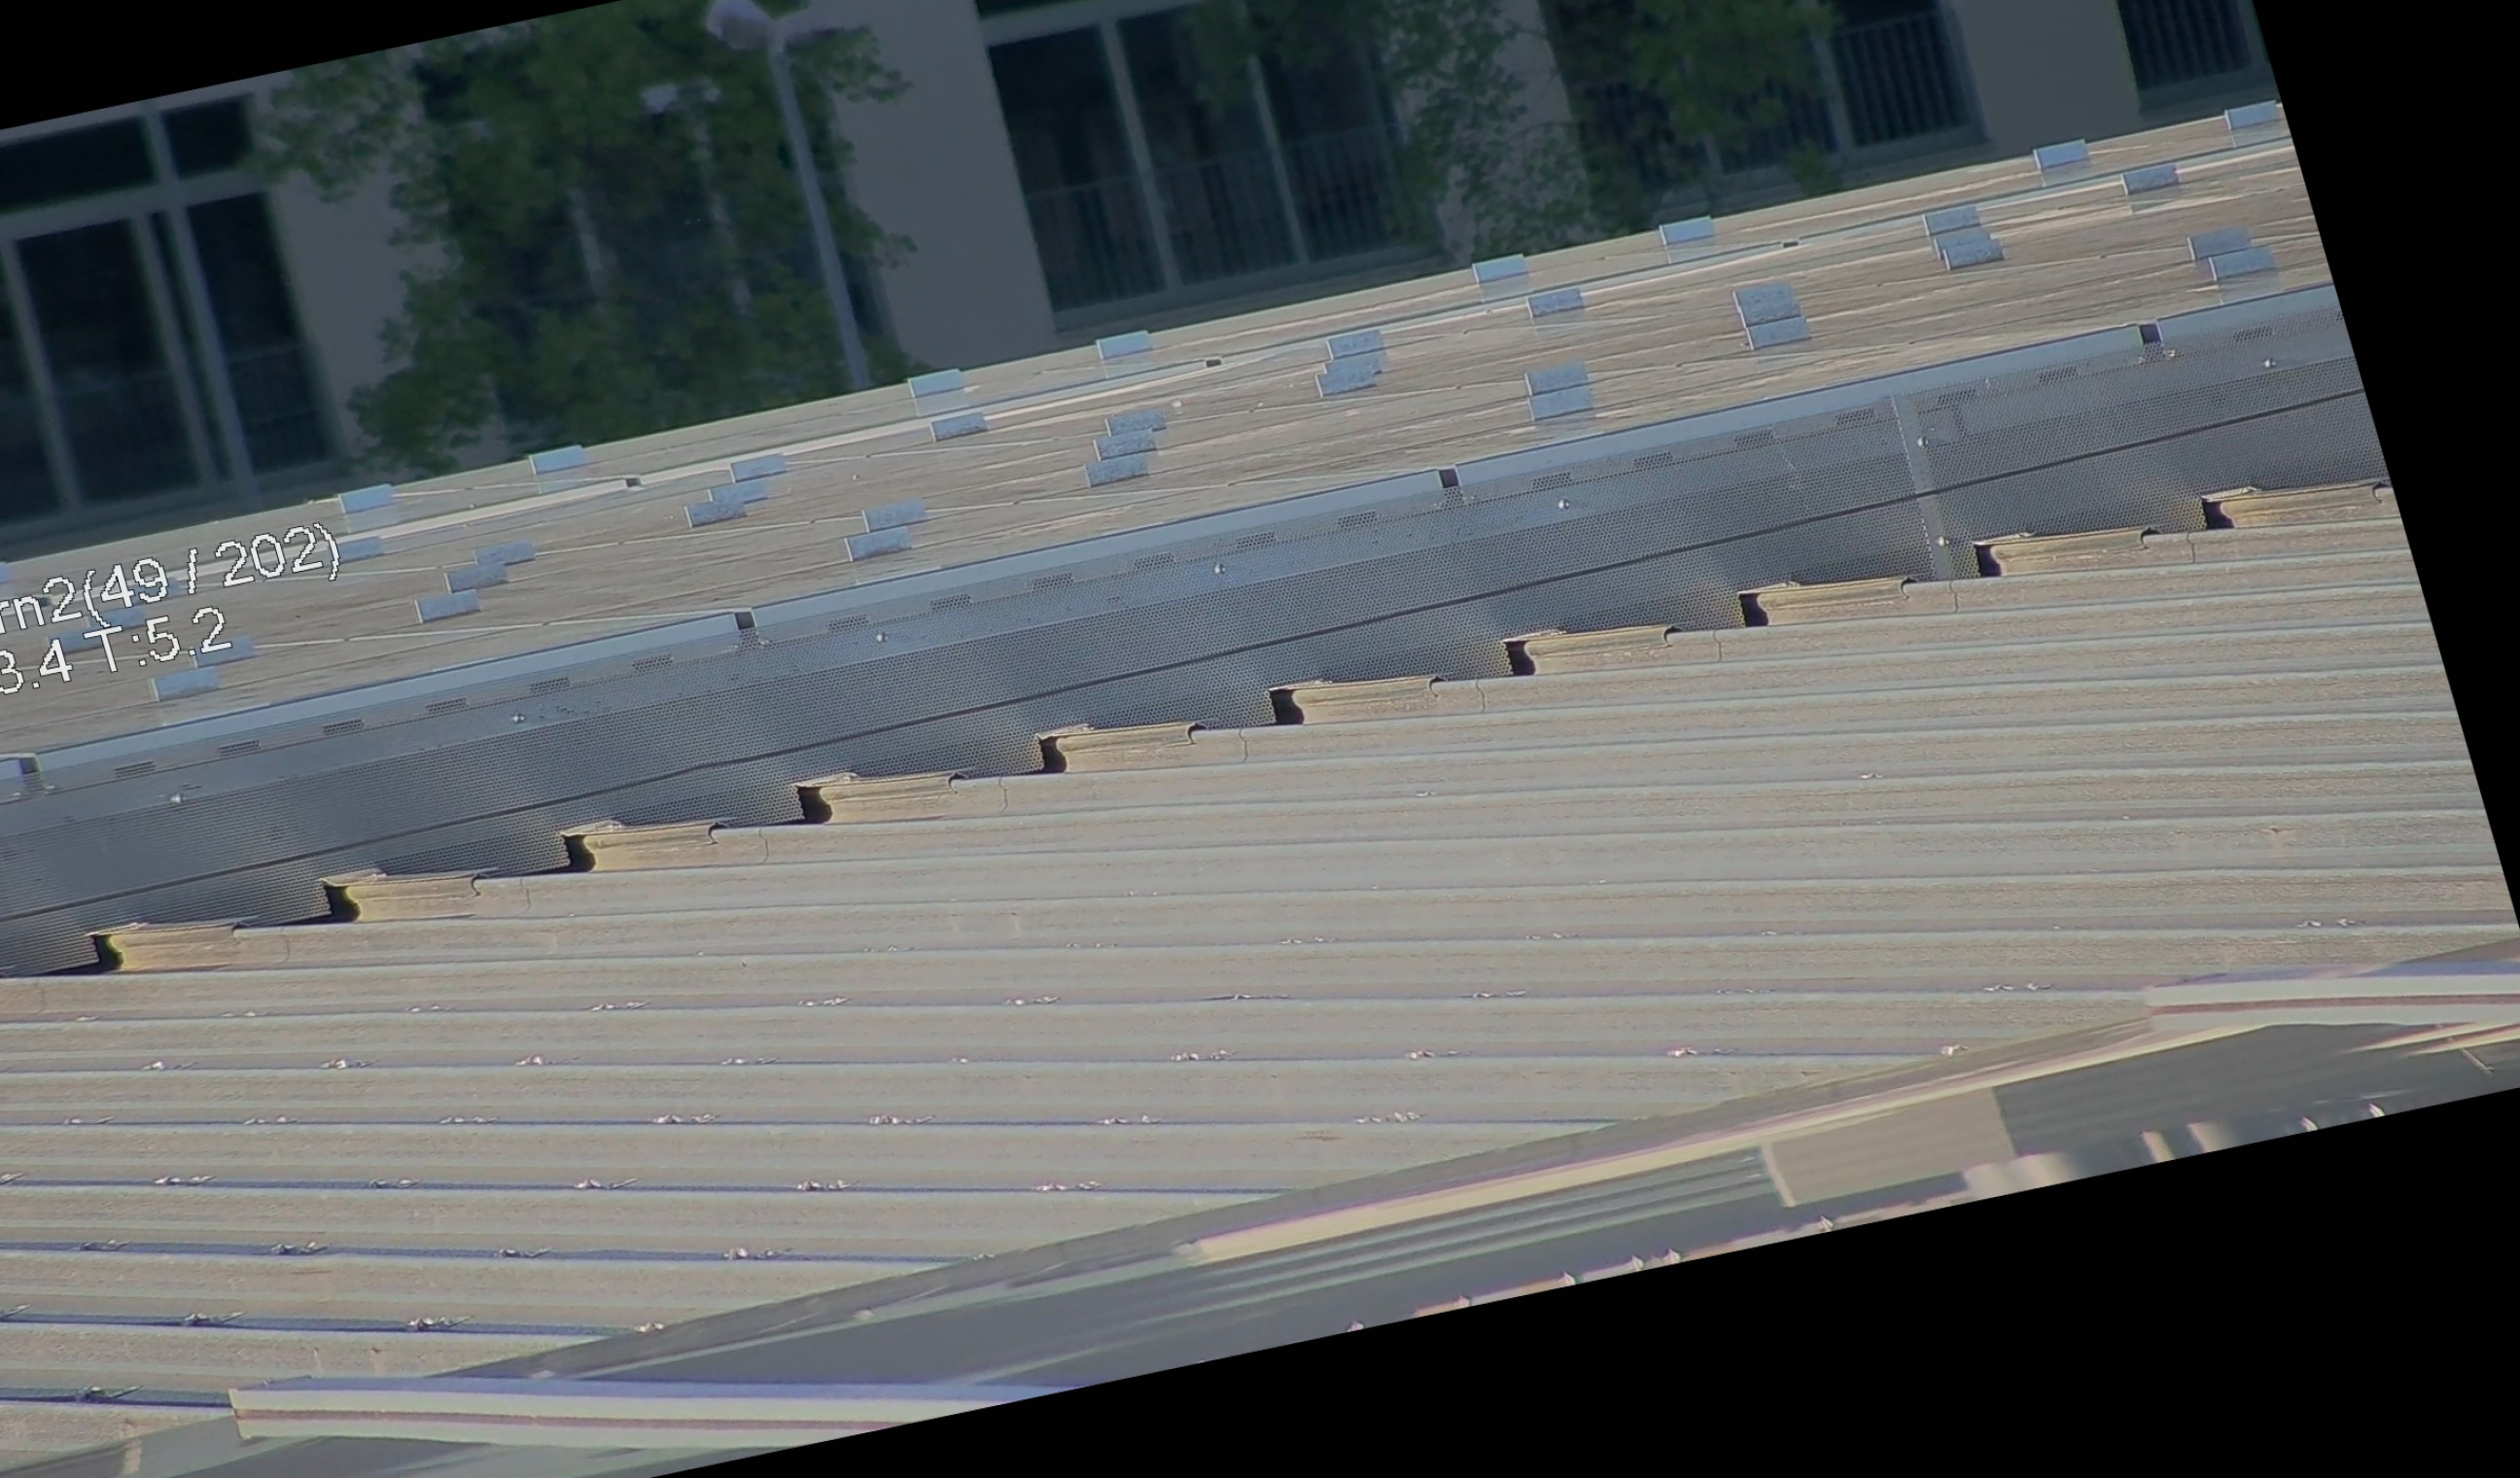Other: (278, 866, 359, 936)
